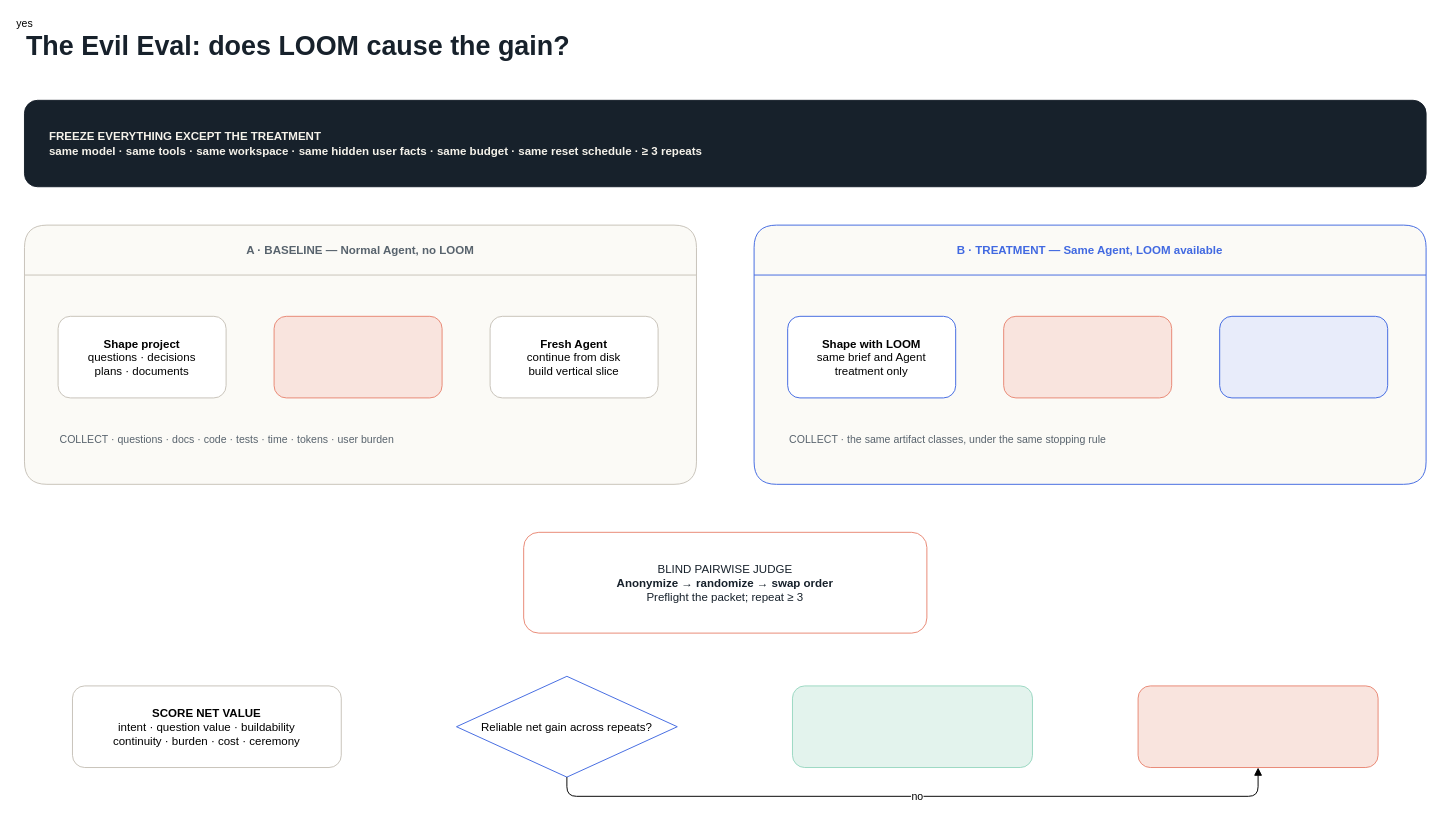
Some shapes in this 1443 by 821 pixel diagram are drawn without their labels. The shapes that lost their labels are listed below. From the top down, each one's centre as x and y in pixels, then its label:
At pixel 357 356: "Force reset after shaping and mid-Task".
At pixel 1087 356: "Force reset identical timing identical budget".
At pixel 1303 356: "Fresh Agent use LOOM disk truth build vertical slice".
At pixel 912 726: "YES · ABLATE Find the causal mechanism keep only what creates the gain".
At pixel 1257 726: "NO · BE EVIL Simplify, revise, or delete ceremony gets no sympathy".
